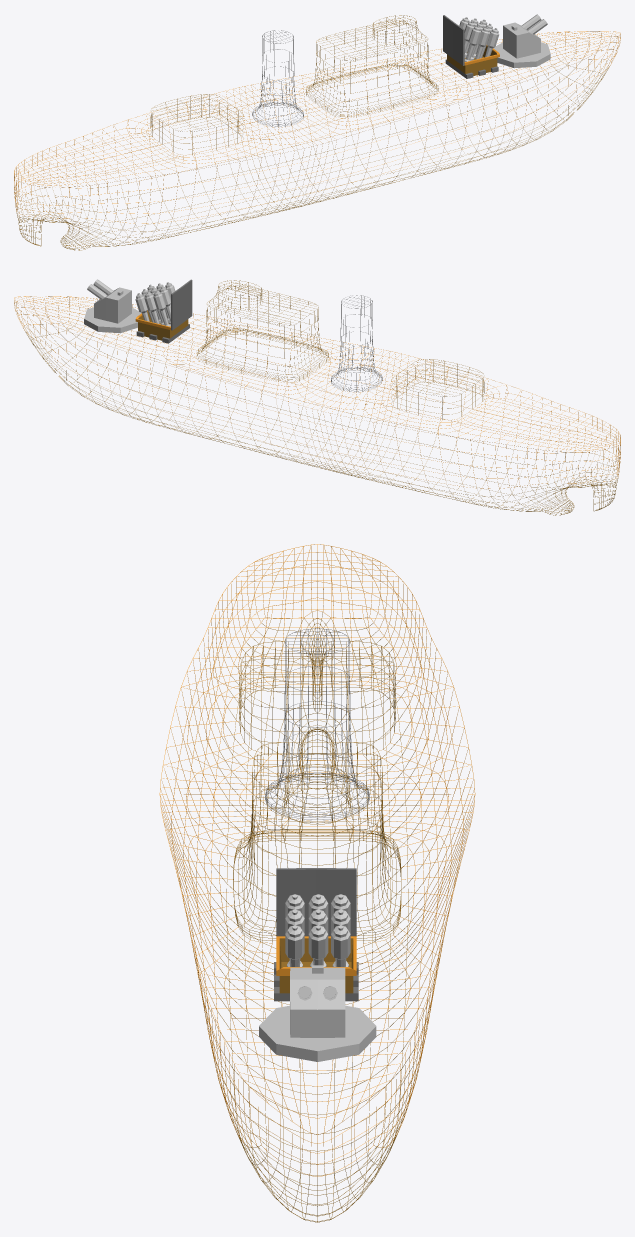
Rendered from Ship_HMCS_Sackville_Wireframe.obj.
The picture shows the model from 3 angles, top to bottom: view 1: azimuth 30°, elevation 25°; view 2: azimuth 150°, elevation 25°; view 3: azimuth 270°, elevation 25°; orthographic projection. The views are drawn at different scales.
Parts seen in each view (by area): view 1: HMCS_Wireframe_var_copy.002; view 2: HMCS_Wireframe_var_copy.002; view 3: HMCS_Wireframe_var_copy.002.
Part boxes in pixels (x1,y1,x2,y2): HMCS_Wireframe_var_copy.002: (14,14,620,250); HMCS_Wireframe_var_copy.002: (14,279,620,515); HMCS_Wireframe_var_copy.002: (159,544,475,1222).
Size of the model in its own units: 4.65 by 1.24 by 1.05.
